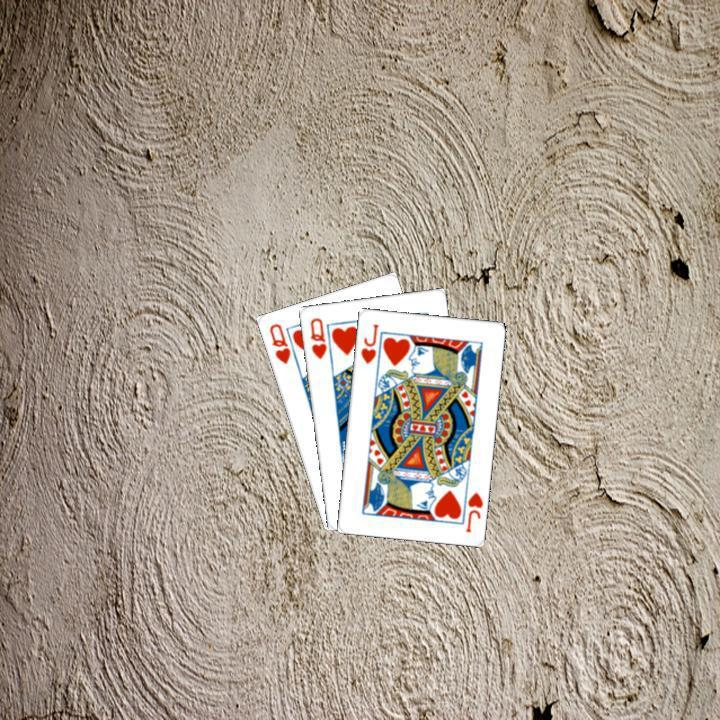J: (356, 319, 380, 365), (461, 488, 485, 534)
Q: (264, 319, 292, 366), (305, 313, 328, 361)
